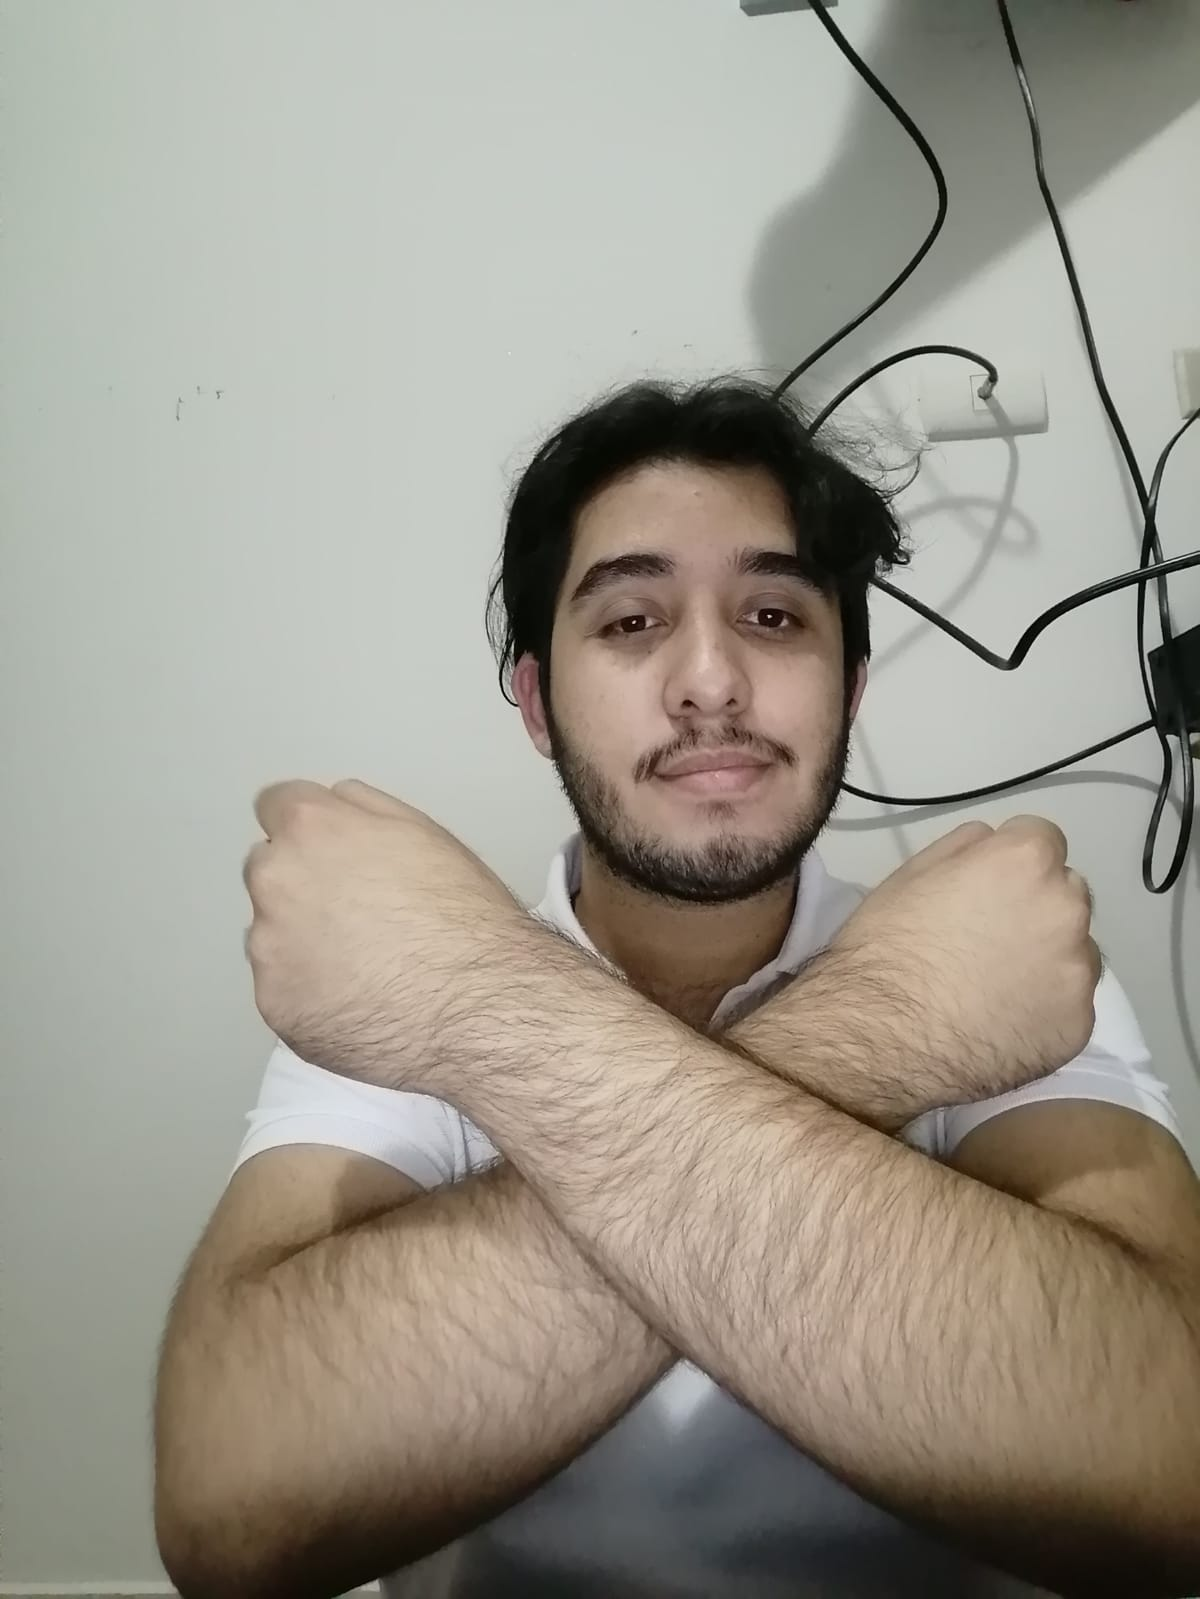Love: (234, 761, 1112, 1258)
